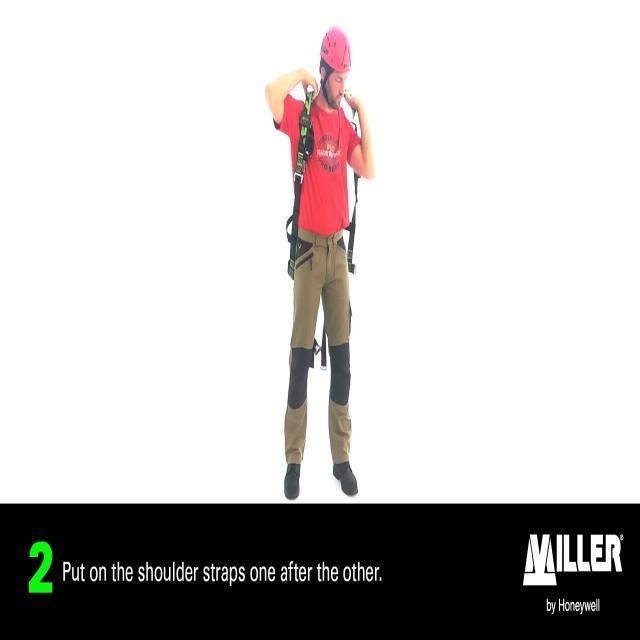Arnes_seguridad: (285, 65, 365, 368)
